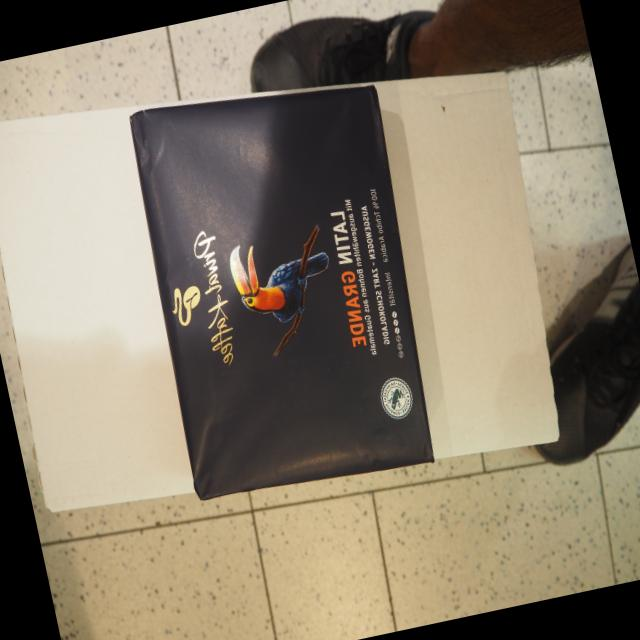LG Gemahlen: (124, 81, 441, 504)
